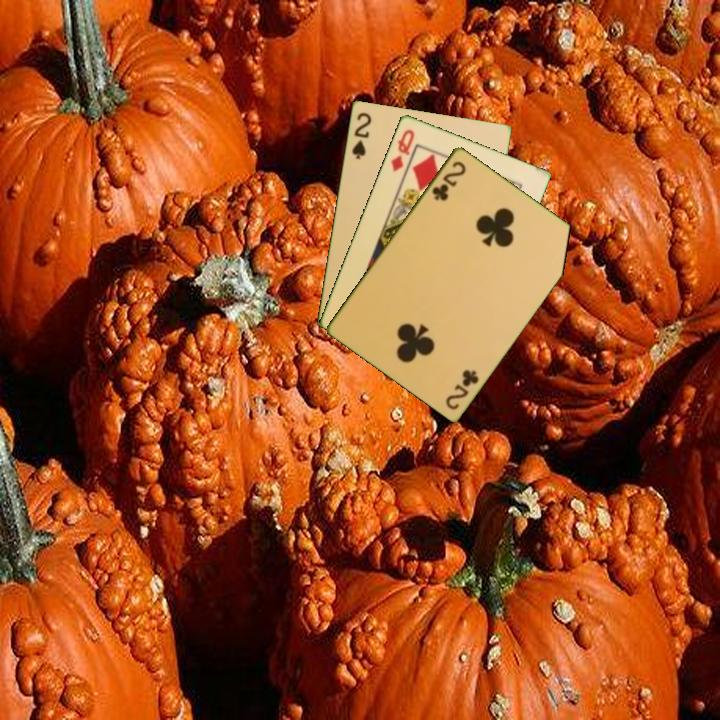2c: (428, 157, 469, 204), (442, 366, 482, 412)
2s: (348, 108, 374, 162)
Qd: (387, 125, 417, 174)
